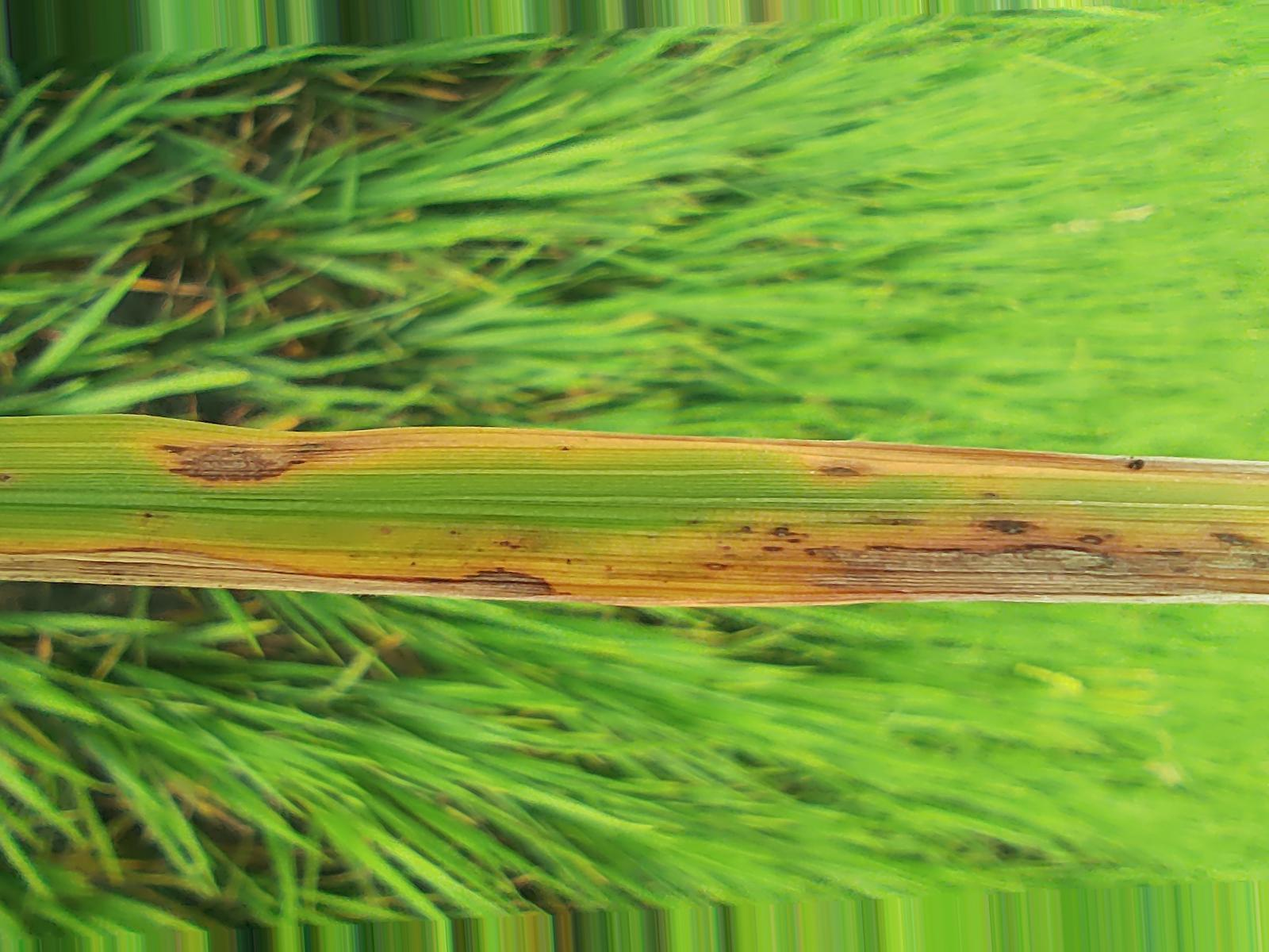LEAF: (0, 415, 1268, 606)
LEAF BLAST: (805, 533, 1268, 606), (0, 551, 574, 600), (162, 444, 328, 482), (977, 520, 1042, 535), (1076, 534, 1105, 545), (1129, 459, 1144, 470)
